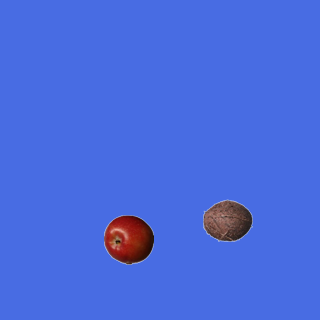Apple Braeburn: (103, 214, 153, 264)
Cocos: (202, 195, 252, 245)
